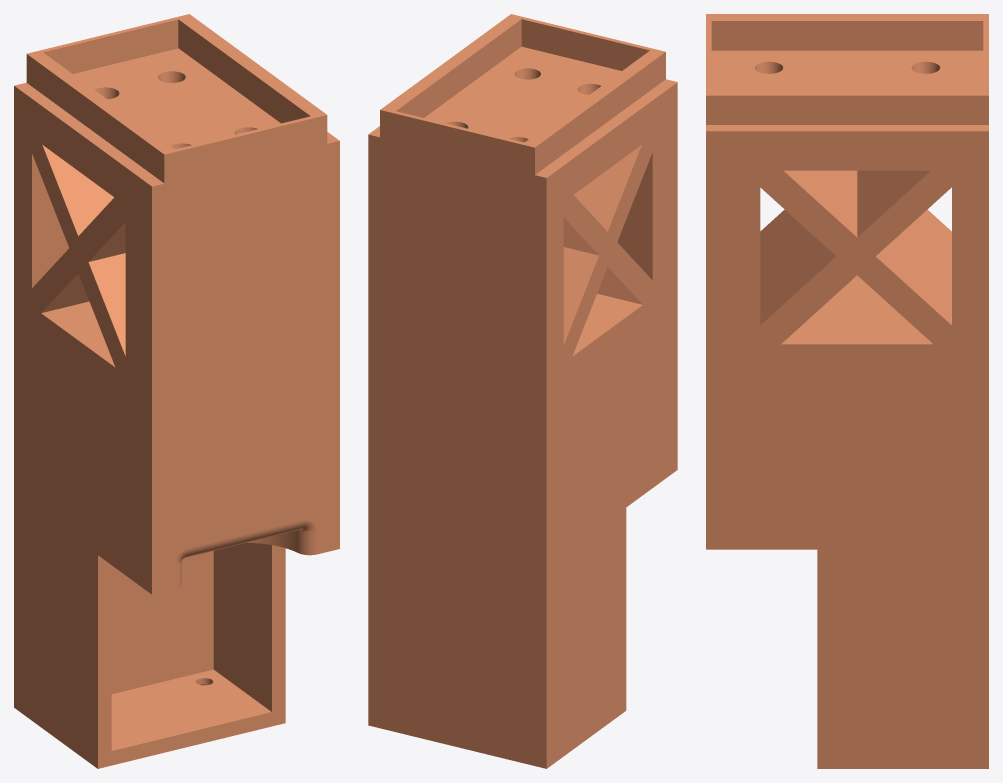
The model's file is Right Arm - Part 2.gltf.
3 renders of one model, left to right at view 1: azimuth 30°, elevation 25°; view 2: azimuth 150°, elevation 25°; view 3: azimuth 270°, elevation 25°, orthographic. The views are drawn at different scales.
Parts seen in each view (by area): view 1: Part 2; view 2: Part 2; view 3: Part 2.
Part boxes in pixels (x1,y1,x2,y2): Part 2: (14, 14, 339, 768); Part 2: (368, 14, 677, 768); Part 2: (706, 14, 988, 768).
Size of the model in its own units: 0.034 by 0.1126 by 0.0433.
